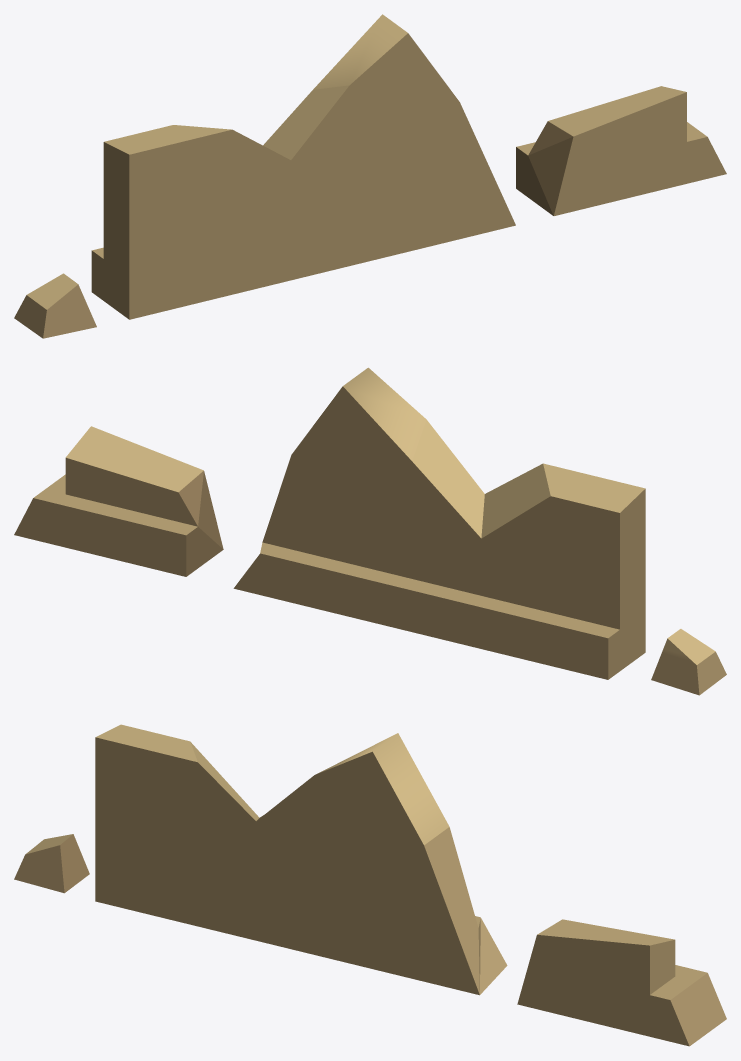
Rendered from SM_Env_Wall_Damaged_03.fbx.
3 renders of one model, top to bottom at view 1: azimuth 30°, elevation 25°; view 2: azimuth 150°, elevation 25°; view 3: azimuth 330°, elevation 25°, orthographic.
Parts seen in each view (by area): view 1: SM_Env_Wall_Damaged_03; view 2: SM_Env_Wall_Damaged_03; view 3: SM_Env_Wall_Damaged_03.
Part boxes in pixels (x1,y1,x2,y2): SM_Env_Wall_Damaged_03: (14,14,726,338); SM_Env_Wall_Damaged_03: (14,367,726,695); SM_Env_Wall_Damaged_03: (14,724,726,1046).
Bounding box in the file's own units: 6.51 × 1.99 × 0.6212.
